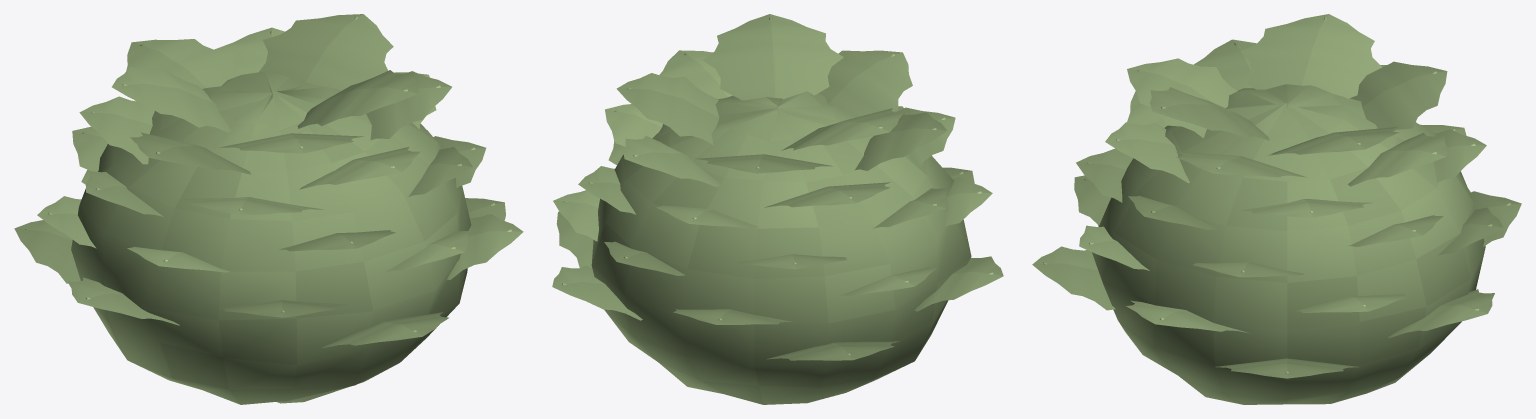
The model's file is WhiteCabbage.glb.
3 views of the same model, side by side, from view 1: azimuth 30°, elevation 25°; view 2: azimuth 150°, elevation 25°; view 3: azimuth 270°, elevation 25° (orthographic). The views are drawn at different scales.
Parts seen in each view (by area): view 1: WhiteCabbage; view 2: WhiteCabbage; view 3: WhiteCabbage.
Boxes of the visible parts, <box> form: WhiteCabbage: <box>14,14,523,404</box>; WhiteCabbage: <box>552,14,1003,404</box>; WhiteCabbage: <box>1032,14,1521,404</box>.
Size of what is drawn, in the model's own units: 0.1703 by 0.1179 by 0.164.
